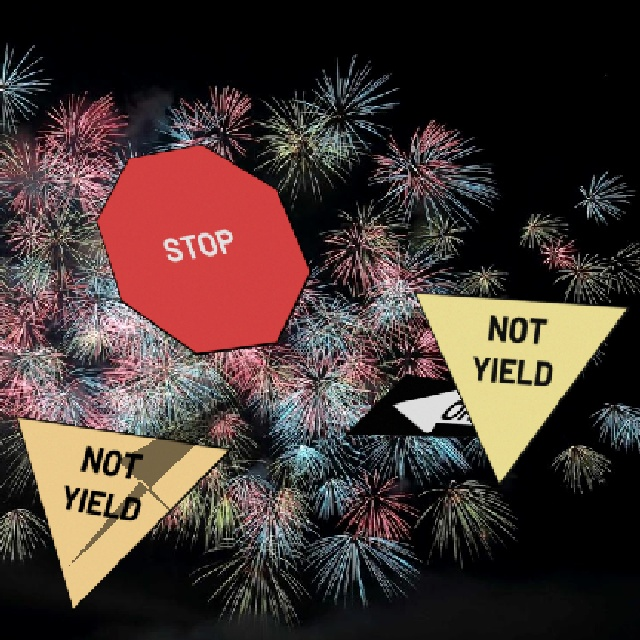NOT_YIELD: (14, 414, 231, 610), (412, 290, 629, 485)
ONE_WAY_ left: (343, 372, 560, 437)
STOP: (94, 142, 311, 354)
